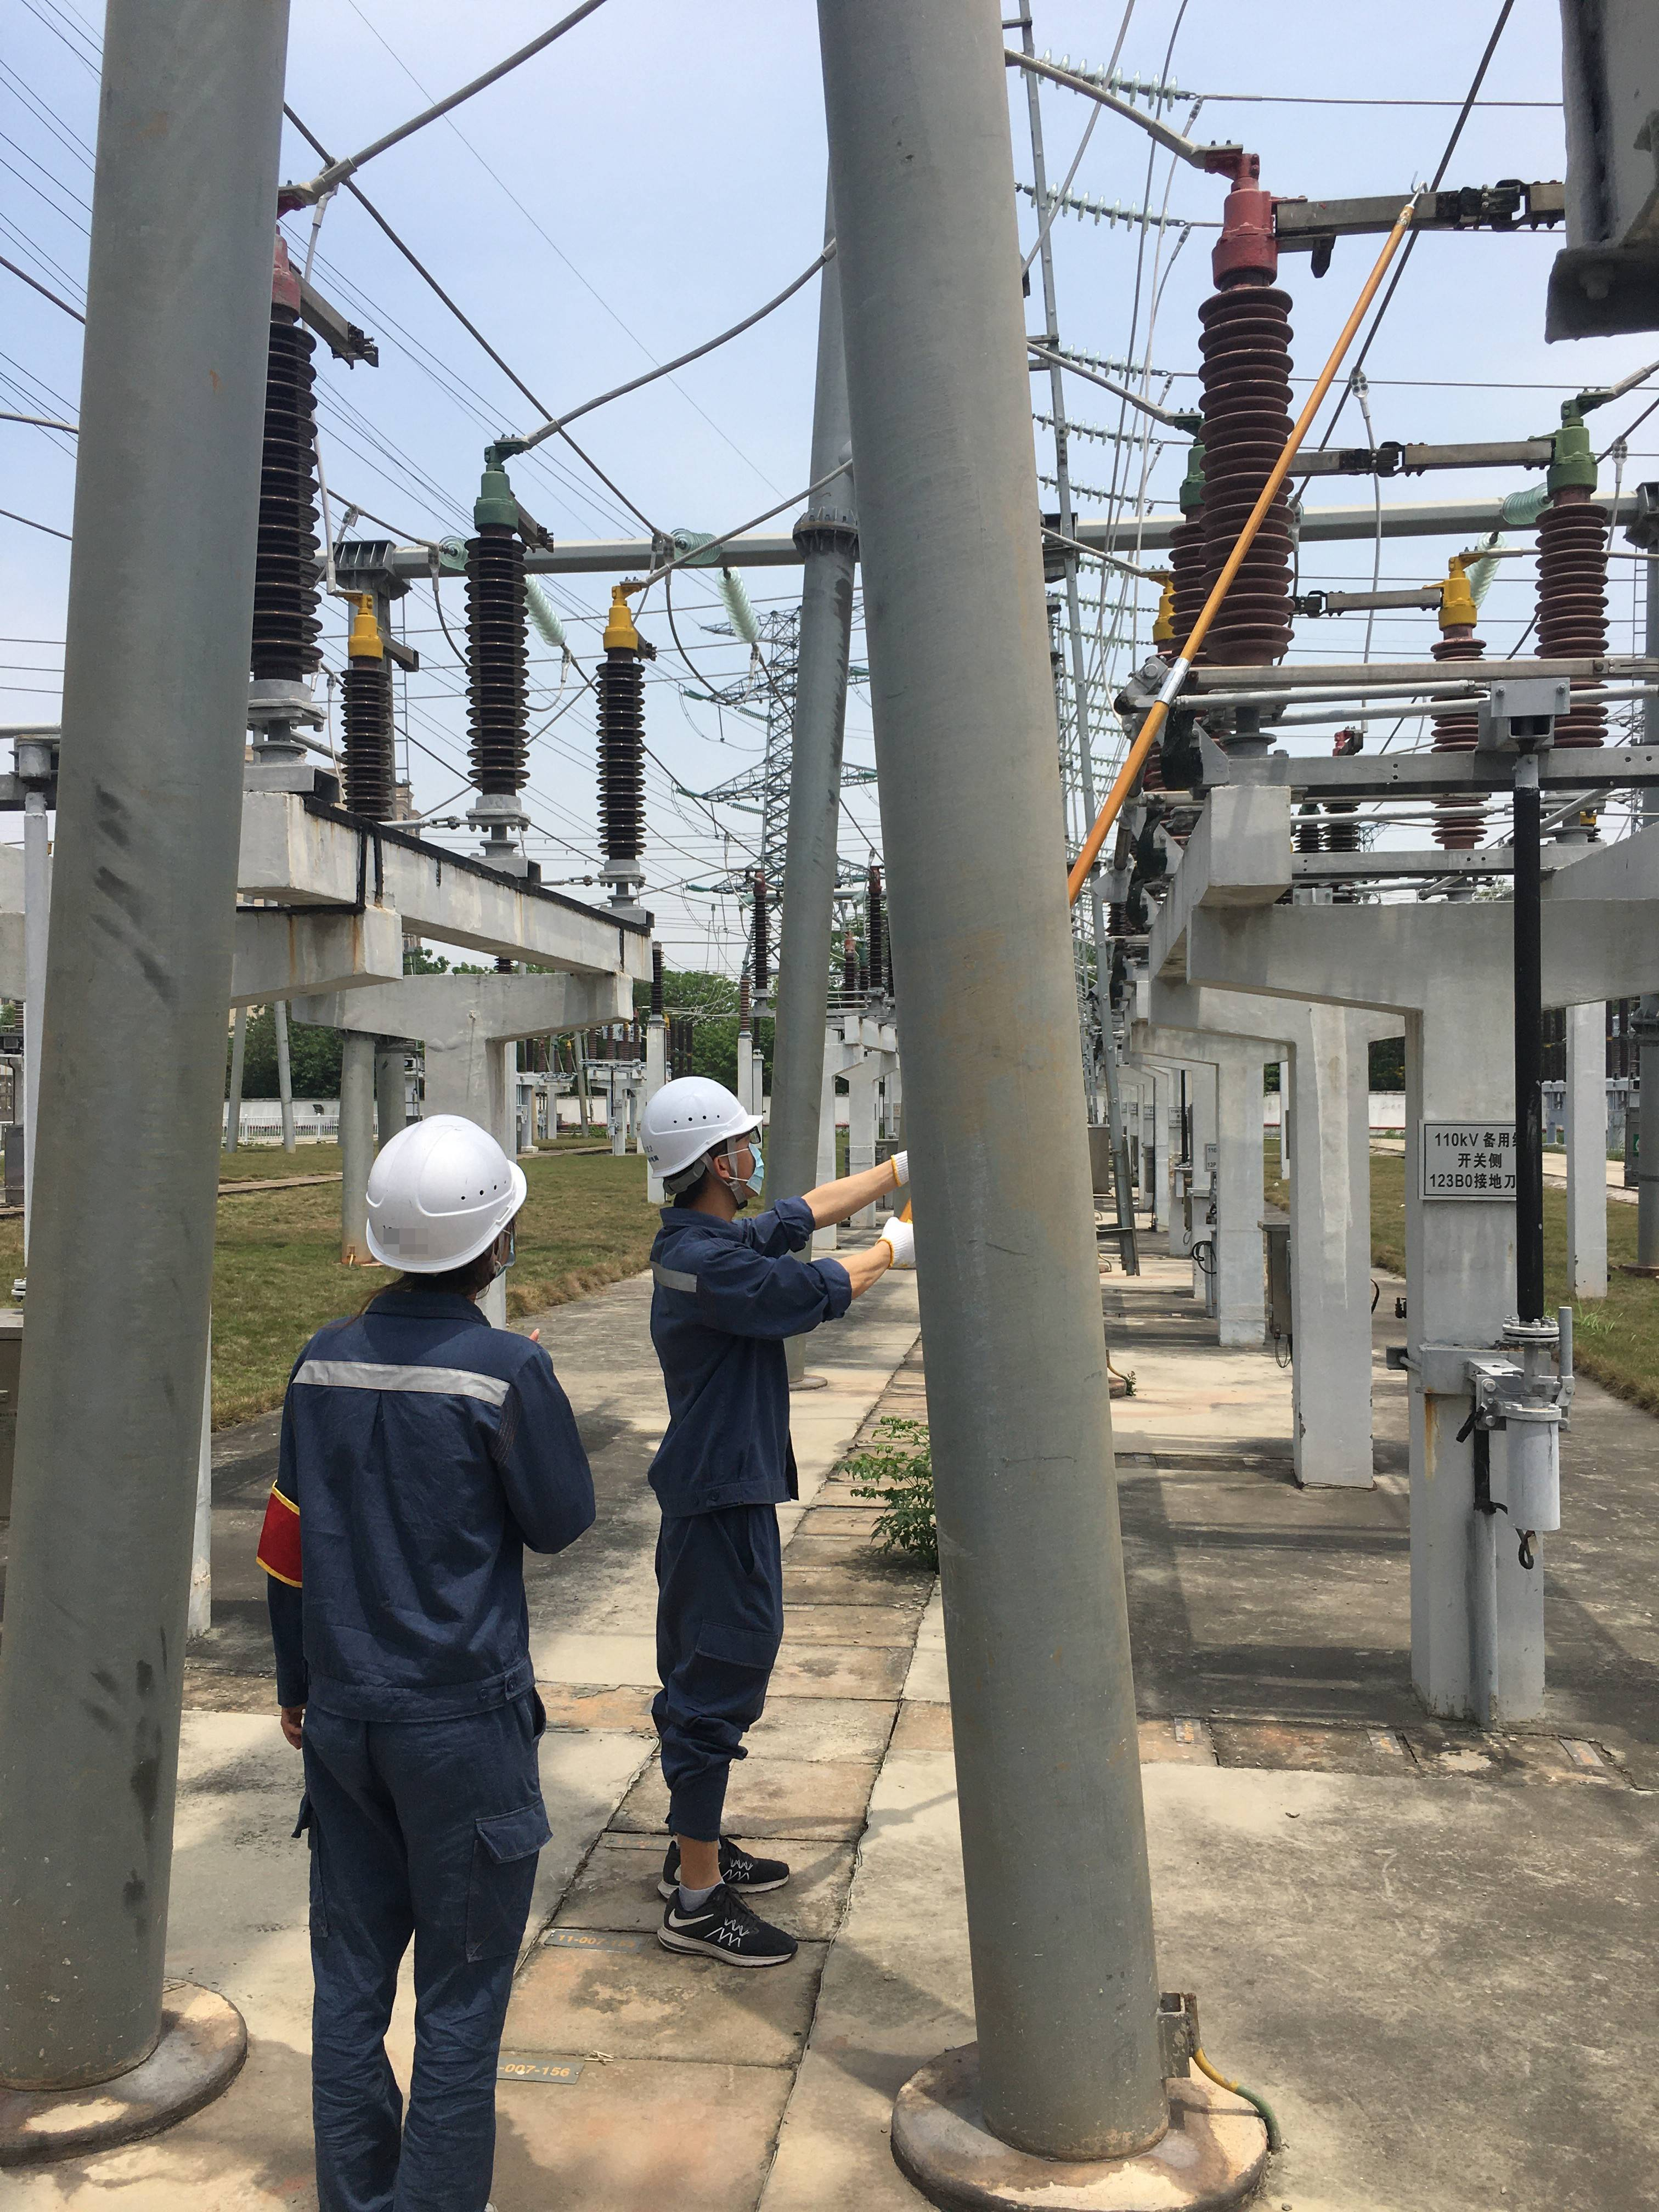downsuit: (293, 1742, 556, 2212), (641, 1521, 795, 1834)
upsuit: (251, 1296, 601, 1717), (647, 1200, 849, 1512)
wrongbottom: (660, 1756, 739, 1902)
wrongtop: (769, 1155, 892, 1235), (807, 1238, 889, 1306)
